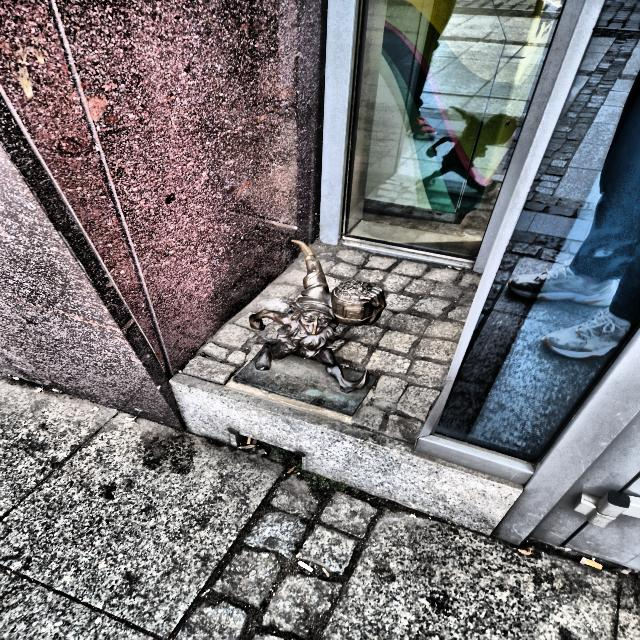Leprykonus: (220, 230, 403, 410)
